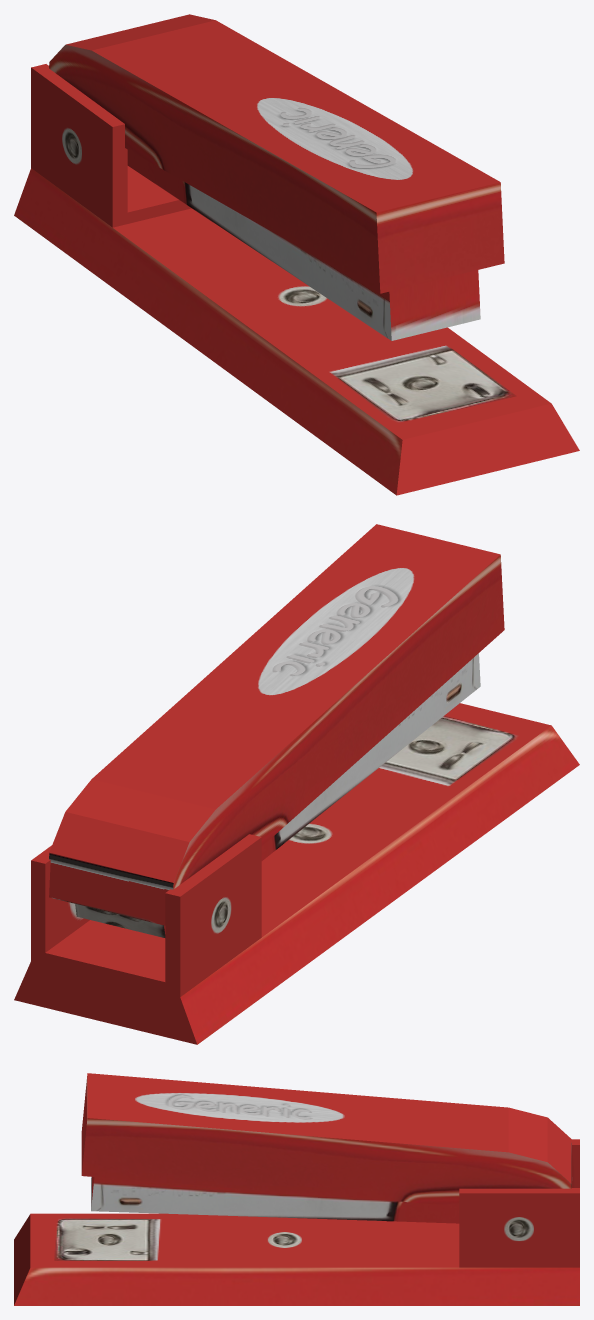
Rendered from Stapler.fbx.
3 renders of one model, top to bottom at view 1: azimuth 30°, elevation 25°; view 2: azimuth 150°, elevation 25°; view 3: azimuth 270°, elevation 25°, orthographic. The views are drawn at different scales.
Parts seen in each view (by area): view 1: Stapler; view 2: Stapler; view 3: Stapler.
Part boxes in pixels (<box>): Stapler: <box>14,14,579,495</box>; Stapler: <box>14,524,579,1044</box>; Stapler: <box>14,1073,579,1305</box>.
Size of the model in its own units: 1.11 by 1.38 by 4.
